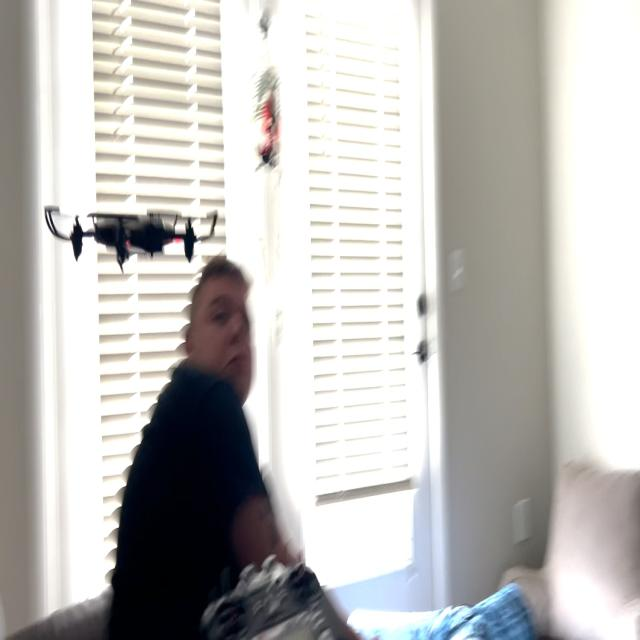drone: (35, 181, 226, 282)
